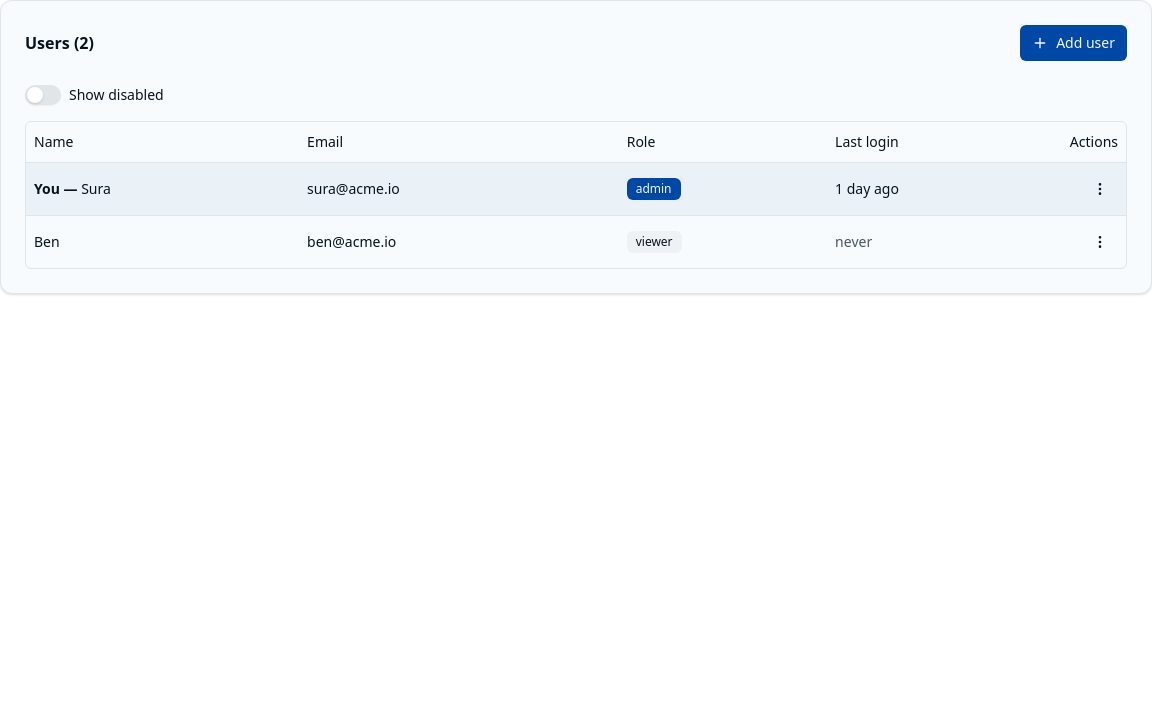
Scenario: UsersPage — destructive dialog verbatim copy (UI-SPEC) › Disable dialog body matches UI-SPEC verbatim
Expected: the text "Users (2)" is shown, [25,35,94,51]
Click the button named "Actions for Ben" at (1100, 242), box [1082,224,1118,260]
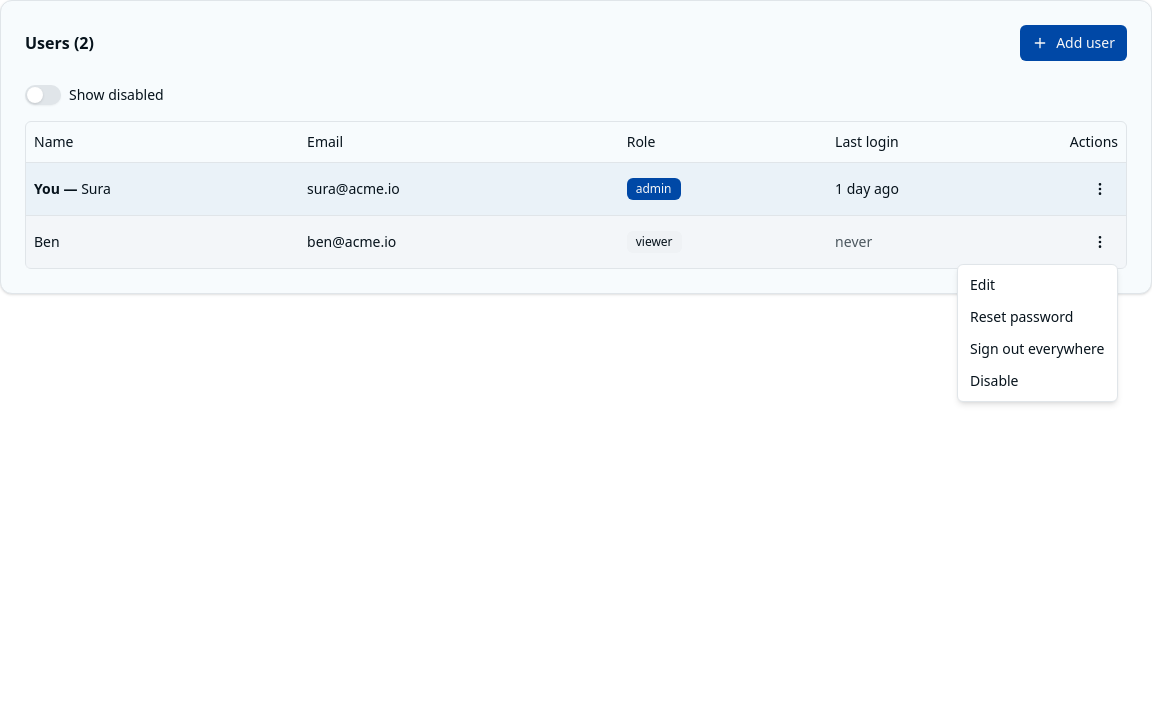
Click the menu item "Disable" at (994, 380), box [970,371,1018,390]
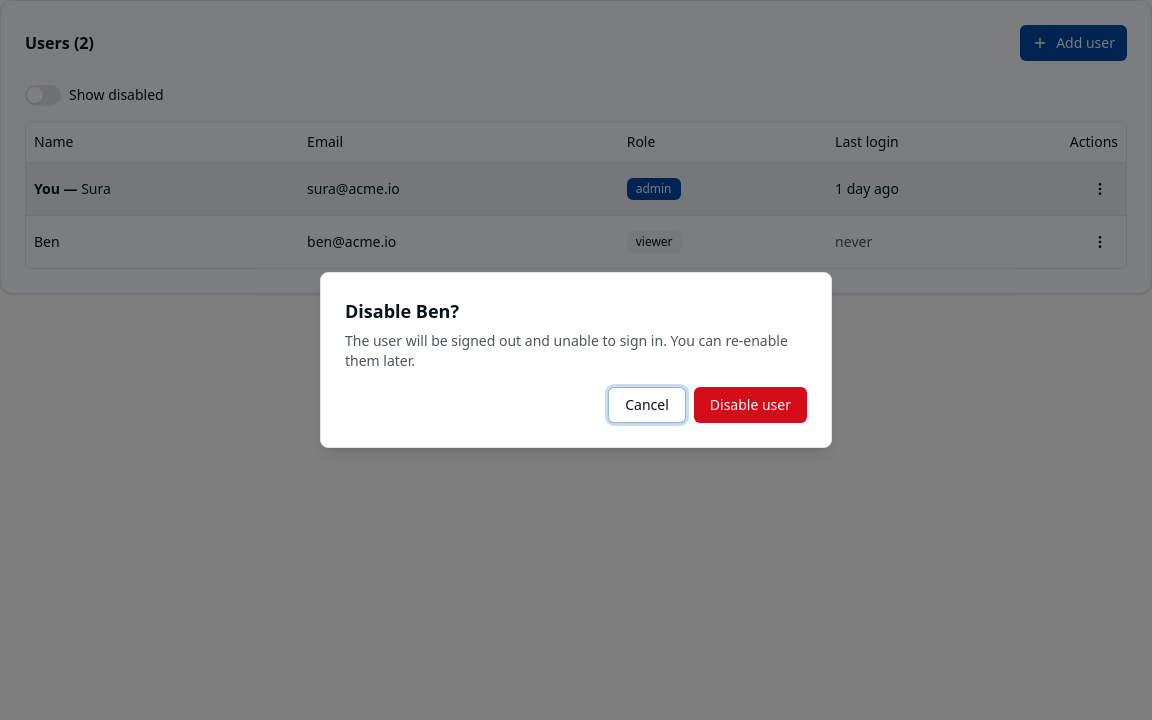
Now the heading "Disable Ben?" is shown, box [345,297,459,325]
Now the text "The user will be signed out and unable to sign in. You can re-enable them later." is shown, box [345,331,807,371]
Now the button "Disable user" is shown, box [694,387,807,423]
